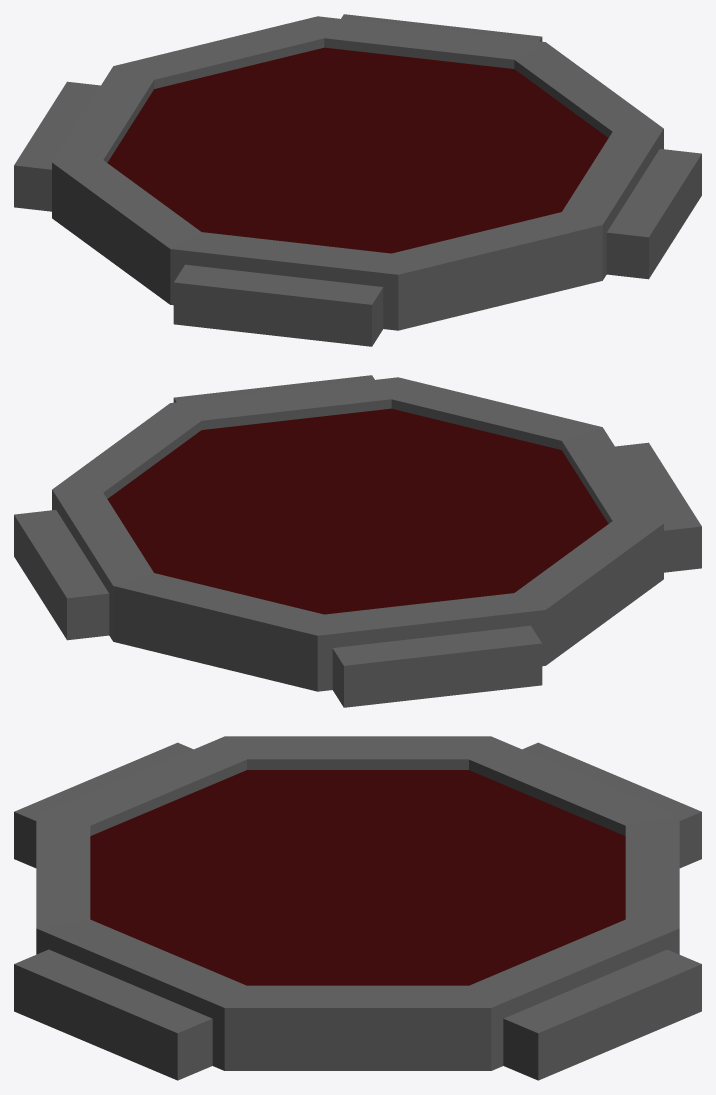
The model's file is checkpoint.fbx.
The picture shows the model from 3 angles, top to bottom: view 1: azimuth 30°, elevation 25°; view 2: azimuth 150°, elevation 25°; view 3: azimuth 270°, elevation 25°; orthographic projection. The views are drawn at different scales.
Parts seen in each view (by area): view 1: Cylinder; view 2: Cylinder; view 3: Cylinder.
Part boxes in pixels (box(x1,y1,x2,y2)): Cylinder: box(14, 14, 701, 346); Cylinder: box(14, 375, 701, 707); Cylinder: box(14, 736, 701, 1080).
Bounding box in the file's own units: 1.98 × 0.2 × 1.98.
